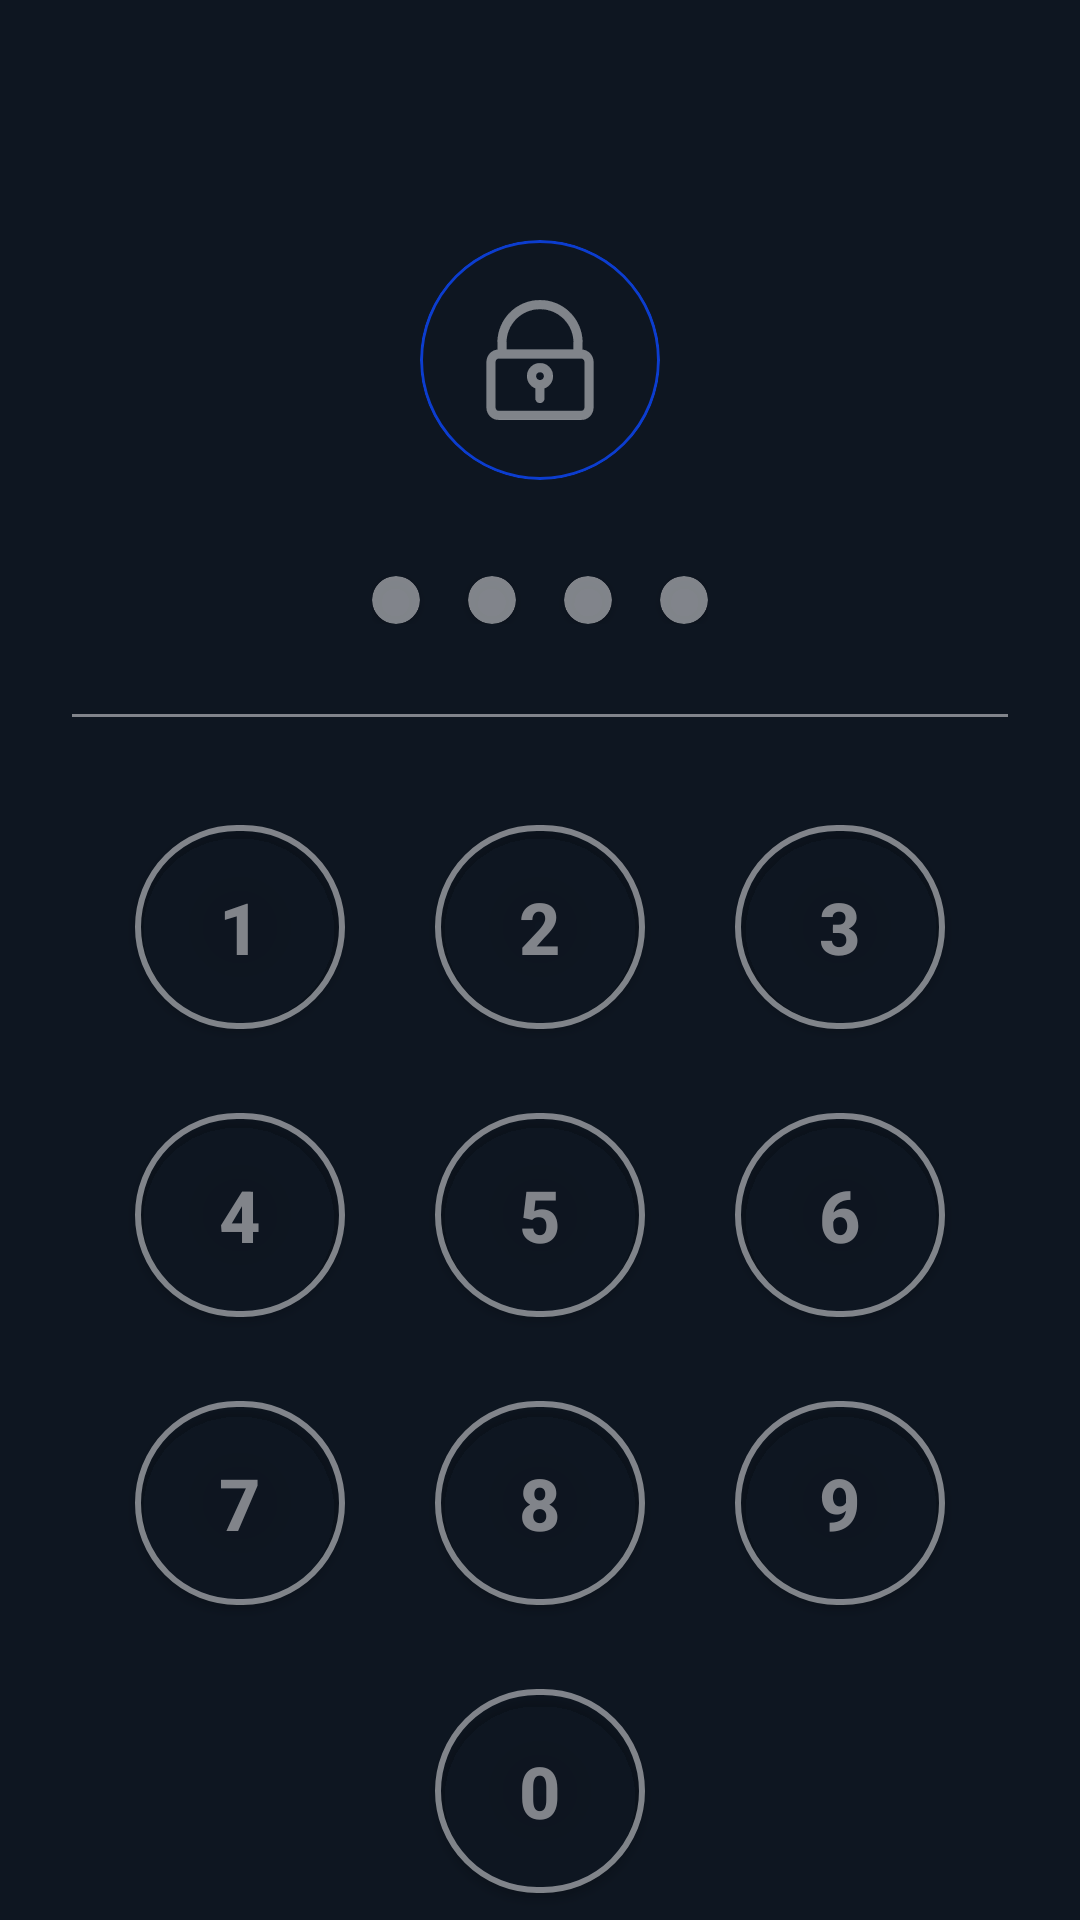

Locate icon controls on the screen. Image size 1080*1920, boxes as (x1, y1, x2, y2).
lock: (486, 300, 594, 420)
